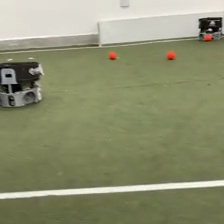ball: (166, 50, 174, 59), (108, 51, 116, 59), (204, 34, 211, 42)
goal: (95, 10, 224, 47)
robot: (1, 59, 44, 110), (197, 16, 224, 41)
